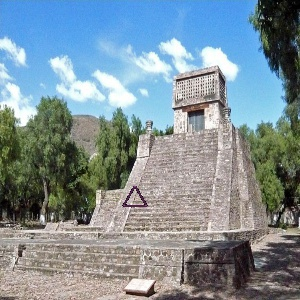triangle: (118, 182, 148, 209)
